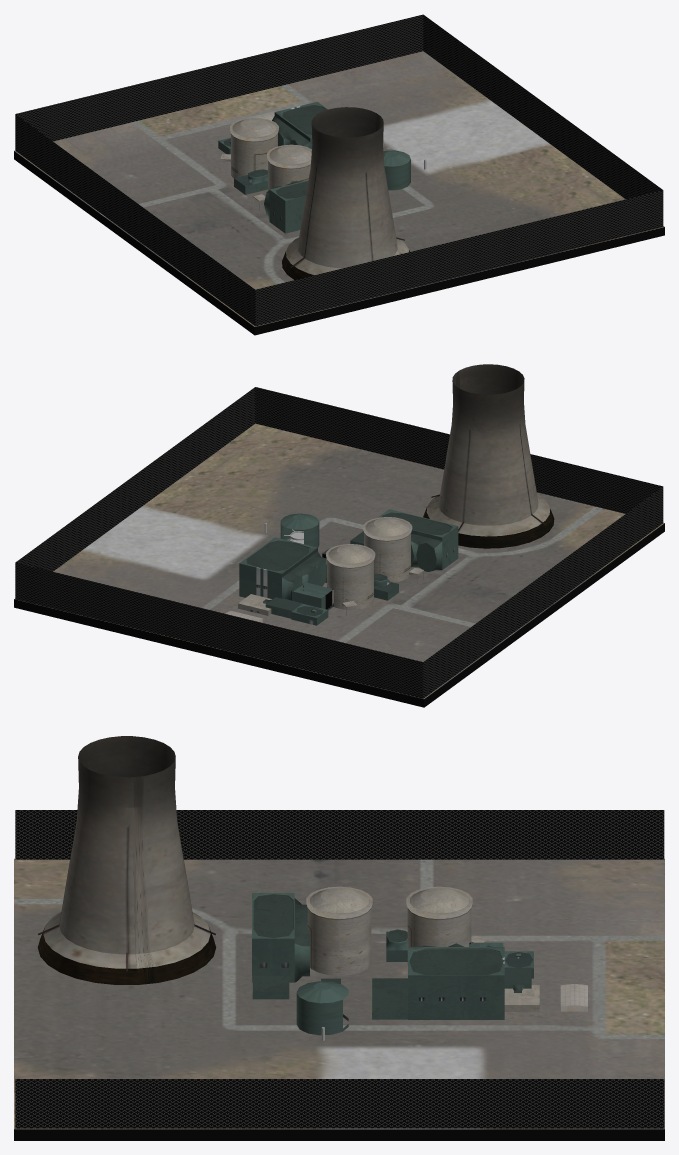
Rendered from nuclear plant.fbx.
3 renders of one model, top to bottom at view 1: azimuth 30°, elevation 25°; view 2: azimuth 150°, elevation 25°; view 3: azimuth 270°, elevation 25°, orthographic. The views are drawn at different scales.
Parts seen in each view (by area): view 1: polySurface112, polySurface104; view 2: polySurface112, polySurface104; view 3: polySurface112, polySurface104.
Boxes of the visible parts, x1,y1,x2,y2 form: polySurface112: (14,14,664,335); polySurface104: (383,150,410,190); polySurface112: (14,364,664,707); polySurface104: (280,513,319,547); polySurface112: (14,736,664,1140); polySurface104: (296,981,348,1035).
Size of the model in its own units: 3231 by 1127 by 3284.
Materials: 3 (2 with a texture image).
